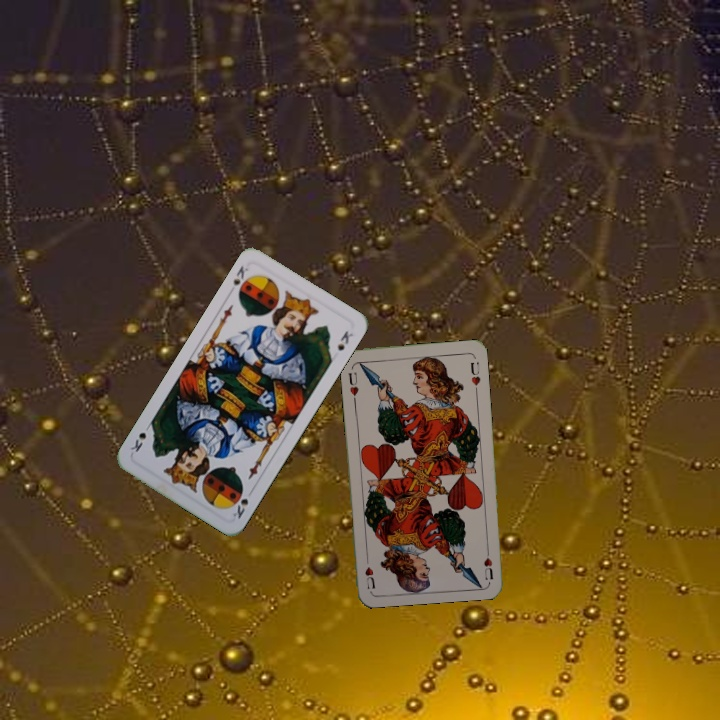HU: (480, 542, 496, 582), (344, 368, 361, 404)
SK: (229, 485, 256, 522), (229, 261, 251, 288)
